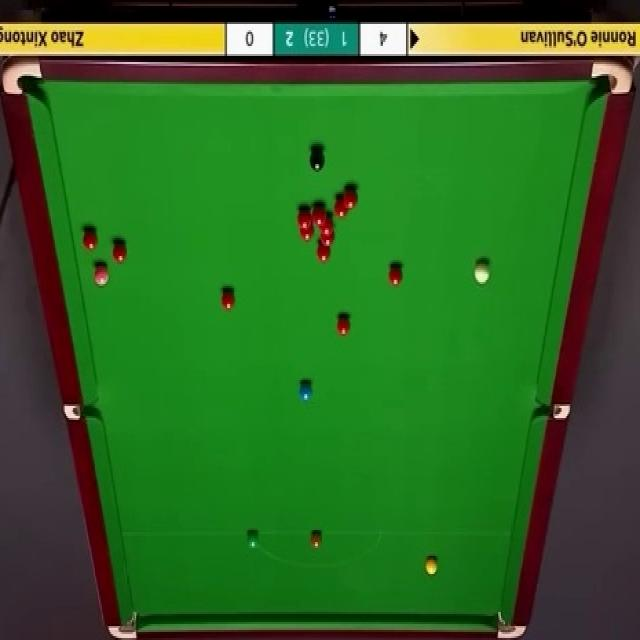pocket: (1, 59, 43, 103), (591, 61, 633, 97), (106, 611, 142, 640), (494, 611, 528, 640), (534, 402, 572, 422), (62, 400, 100, 418)
